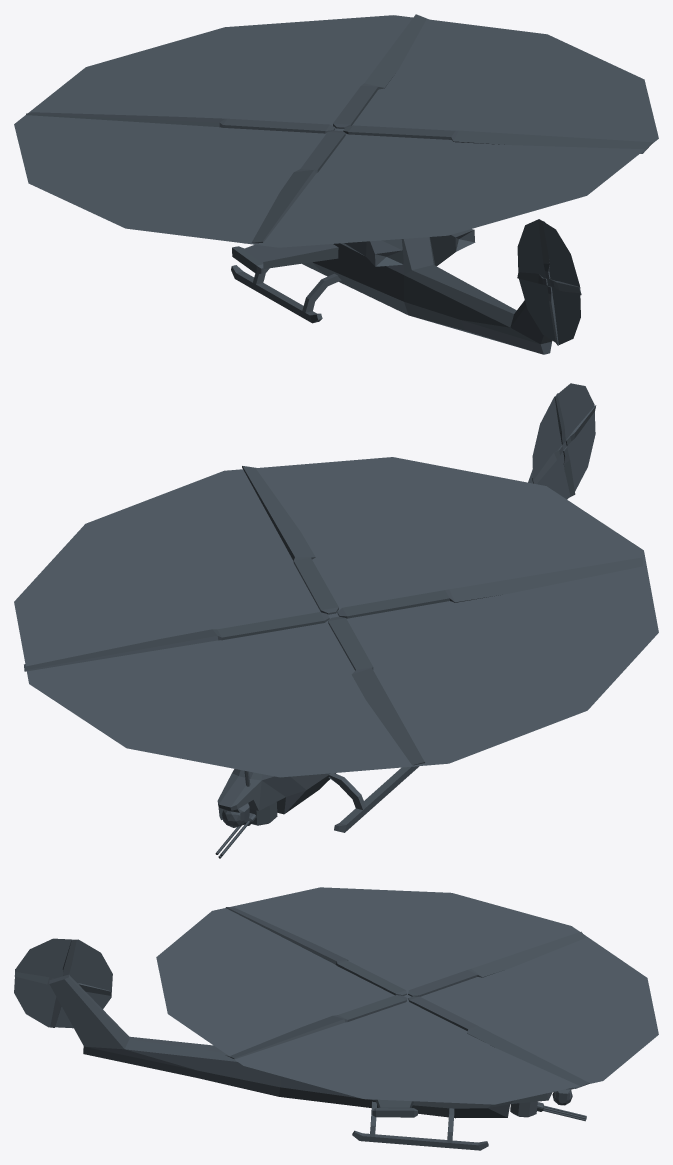
Rendered from Heli-Cobra-Zulu.glb.
3 views of the same model, one above another, from view 1: azimuth 30°, elevation 25°; view 2: azimuth 150°, elevation 25°; view 3: azimuth 270°, elevation 25° (orthographic). The views are drawn at different scales.
Size of the model in its own units: 13.83 by 5.63 by 17.68.
